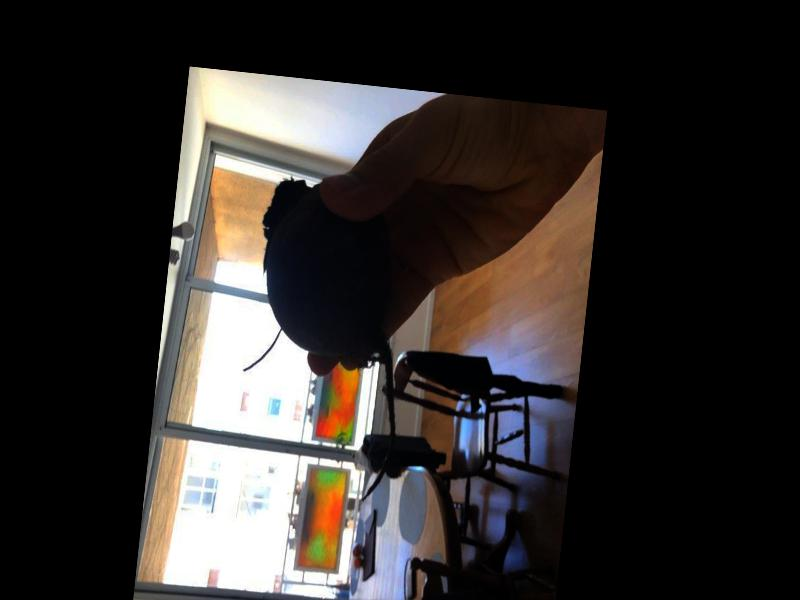Beet: (233, 176, 420, 503)
